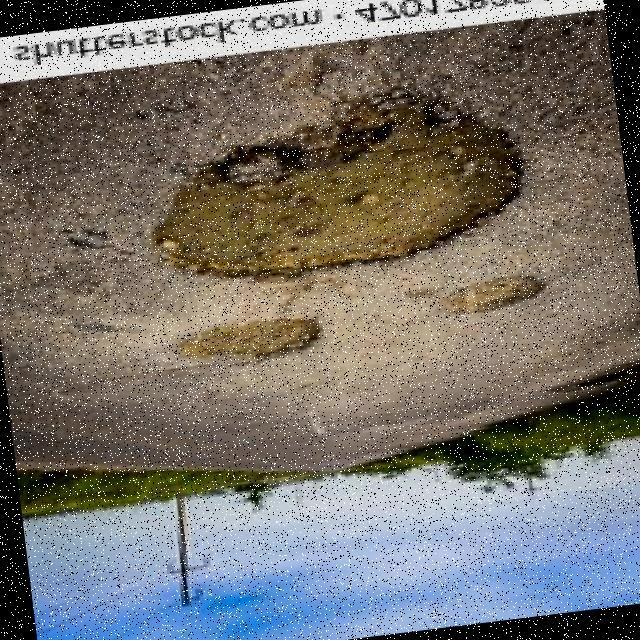Pothole: (153, 89, 523, 278), (178, 315, 322, 359), (434, 272, 543, 314)
